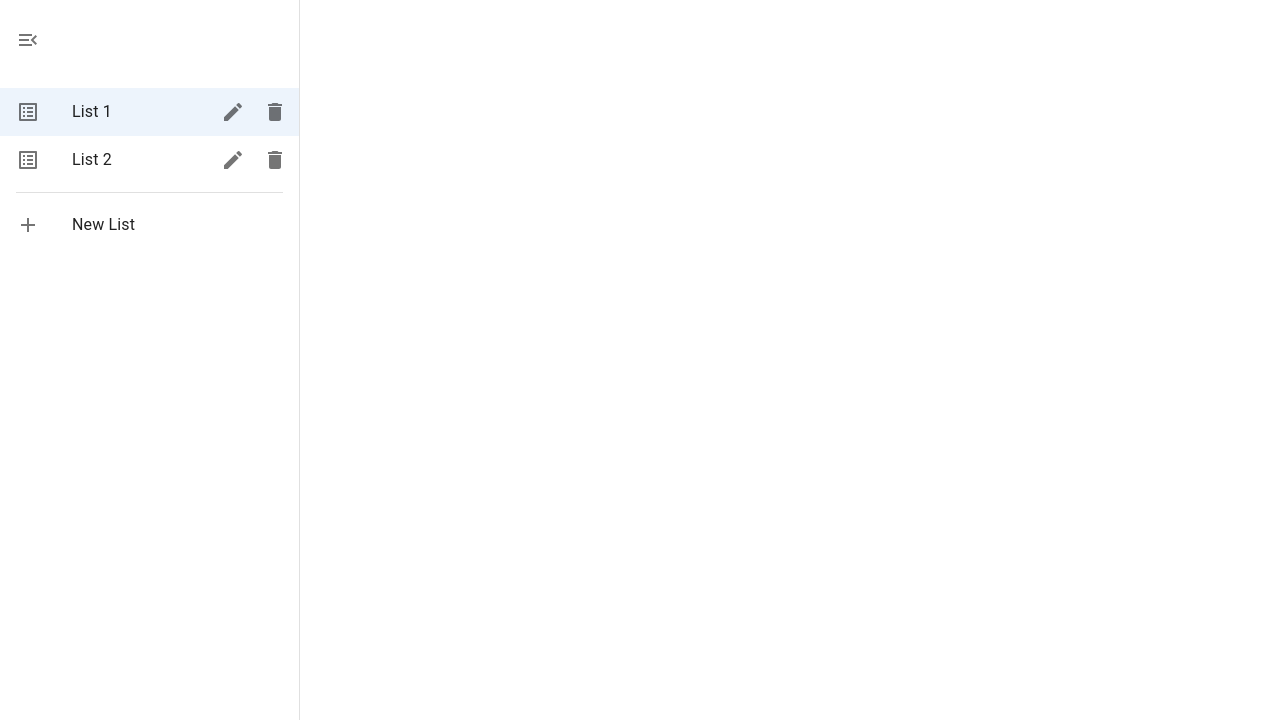
ListBar Component › opens TodoListForm for editing when edit button is clicked
Click the button named "edit" next to "List 1" at {"x": 233, "y": 112}, box [213,92,253,132]
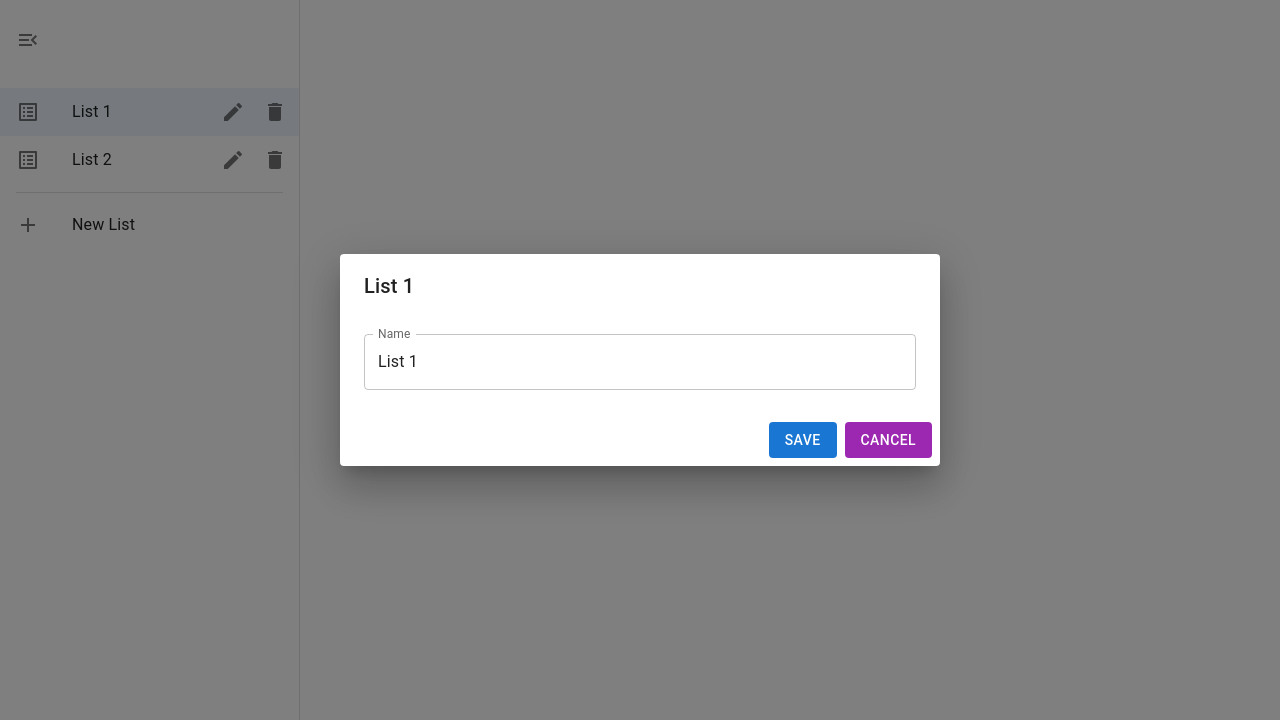
Expected: the element with test id "todo-list-form" is shown
